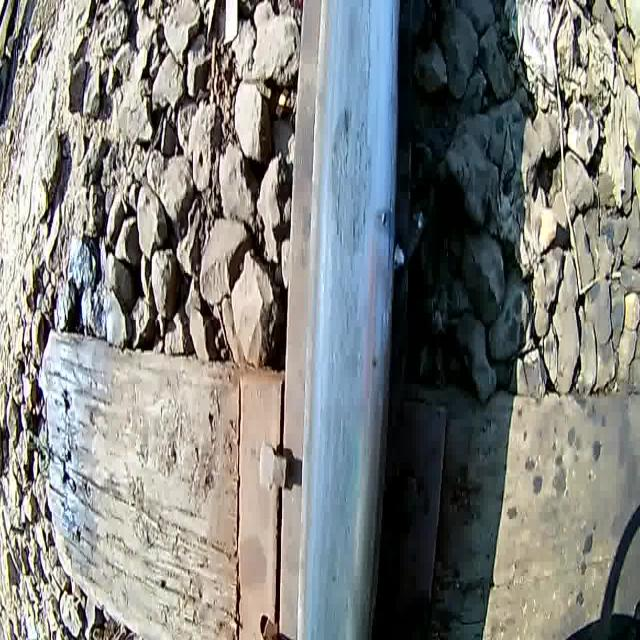Squats: (277, 0, 416, 640)
